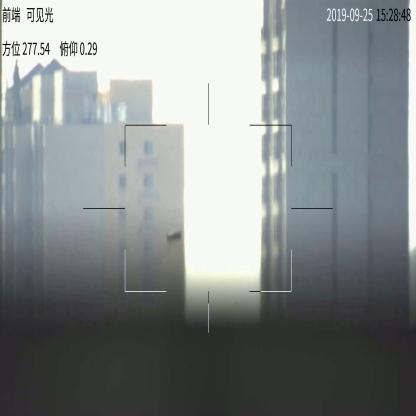uav: (166, 229, 181, 243)
